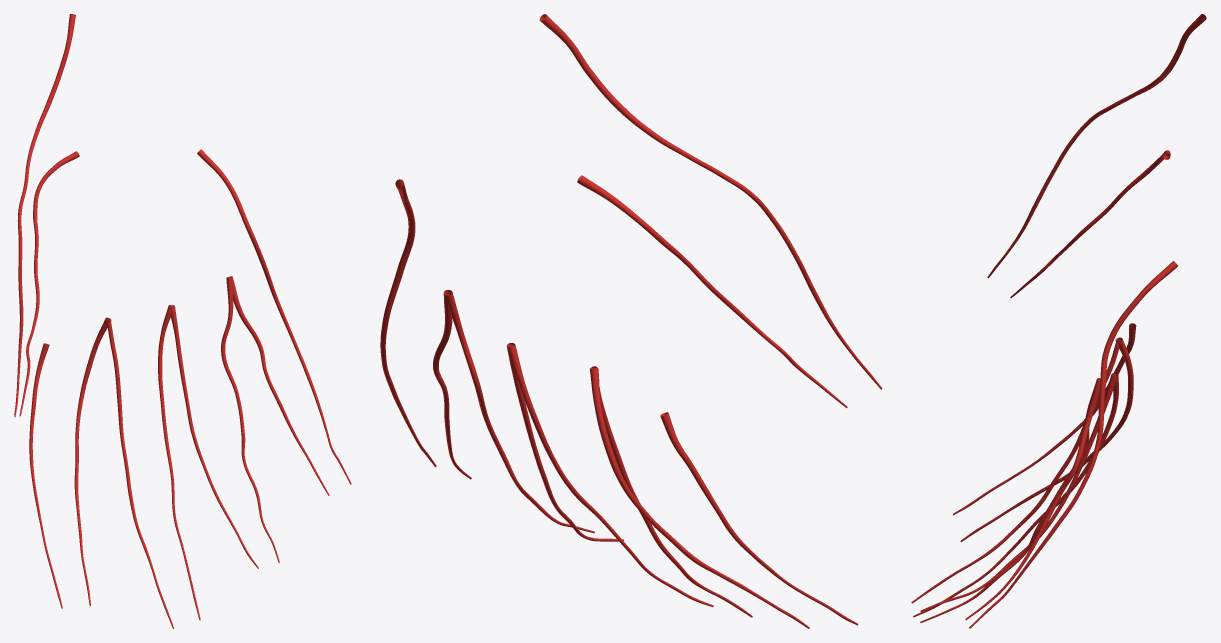
The model's file is circulatorio-proper-palmar-digital-arteries-r.glb.
3 views of the same model, side by side, from view 1: azimuth 30°, elevation 25°; view 2: azimuth 150°, elevation 25°; view 3: azimuth 270°, elevation 25° (orthographic). The views are drawn at different scales.
Visible parts, largest first — view 1: Proper palmar digital arteries.r; view 2: Proper palmar digital arteries.r; view 3: Proper palmar digital arteries.r.
Boxes of the visible parts, x1,y1,x2,y2 form: Proper palmar digital arteries.r: [14, 14, 351, 628]; Proper palmar digital arteries.r: [380, 14, 882, 628]; Proper palmar digital arteries.r: [911, 14, 1206, 628].
Bounding box in the file's own units: 0.107 × 0.1608 × 0.0714.
